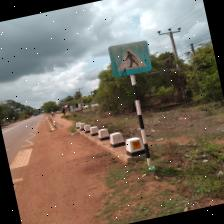blueboard: (106, 38, 154, 78)
crossing: (7, 146, 36, 170)
